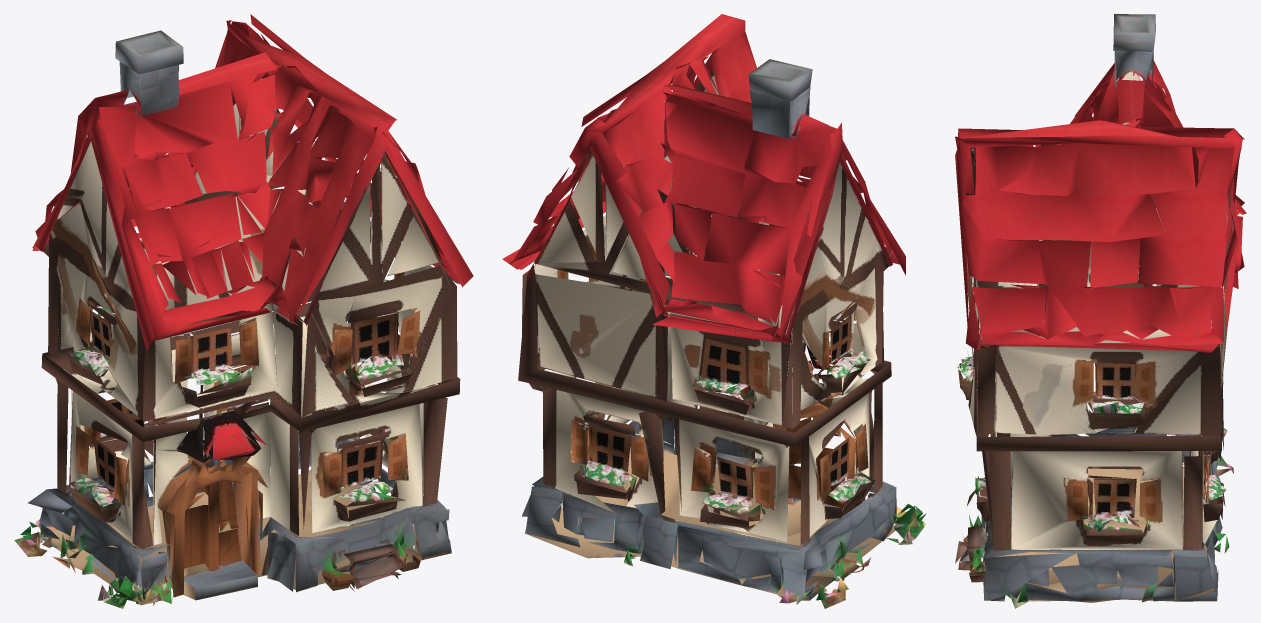
Rendered from house_terra_6_lod1.glb.
3 views of the same model, side by side, from view 1: azimuth 30°, elevation 25°; view 2: azimuth 150°, elevation 25°; view 3: azimuth 270°, elevation 25° (orthographic). The views are drawn at different scales.
Parts seen in each view (by area): view 1: ЦІЛЬ; view 2: ЦІЛЬ; view 3: ЦІЛЬ.
Part boxes in pixels (x1=…): ЦІЛЬ: x1=14, y1=14, x2=473, y2=608; ЦІЛЬ: x1=502, y1=14, x2=926, y2=608; ЦІЛЬ: x1=955, y1=14, x2=1246, y2=608.
Bounding box in the file's own units: 1.5 × 2.14 × 1.17.
Materials: 1 (1 with a texture image).
